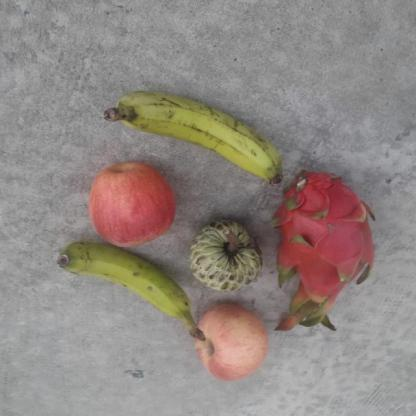annona: (189, 218, 265, 293)
apple: (87, 159, 178, 249), (193, 301, 269, 380)
banana: (102, 90, 285, 186), (57, 240, 209, 341)
pitaya: (268, 171, 381, 331)
